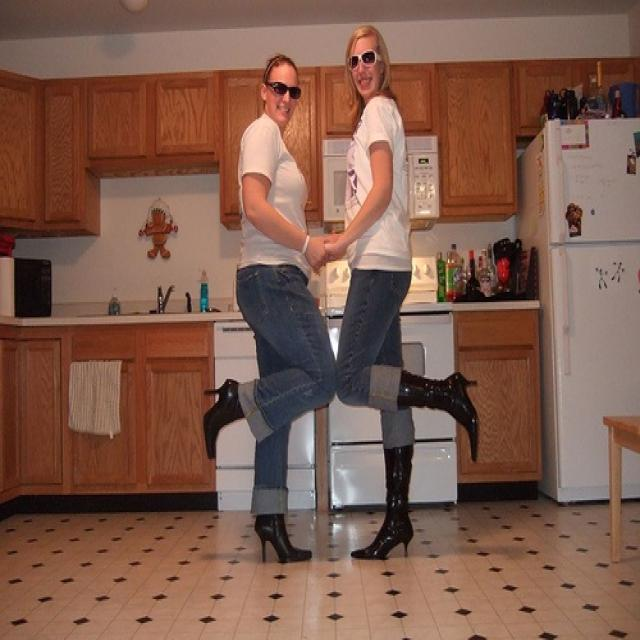bottle: (444, 241, 466, 302), (477, 250, 493, 300), (434, 248, 447, 307), (107, 276, 123, 321), (197, 270, 211, 316)
